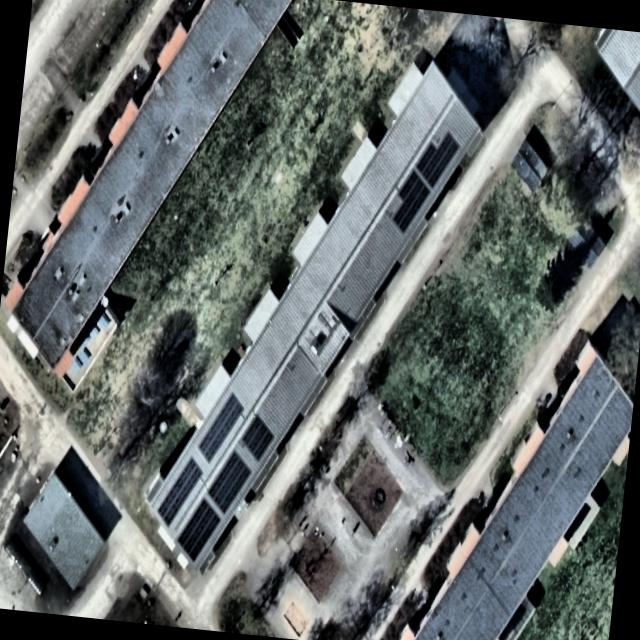roof_pv: (155, 451, 207, 532), (193, 388, 244, 467), (203, 448, 254, 518), (175, 492, 223, 564), (414, 128, 462, 192), (390, 168, 432, 238), (238, 408, 275, 464)
